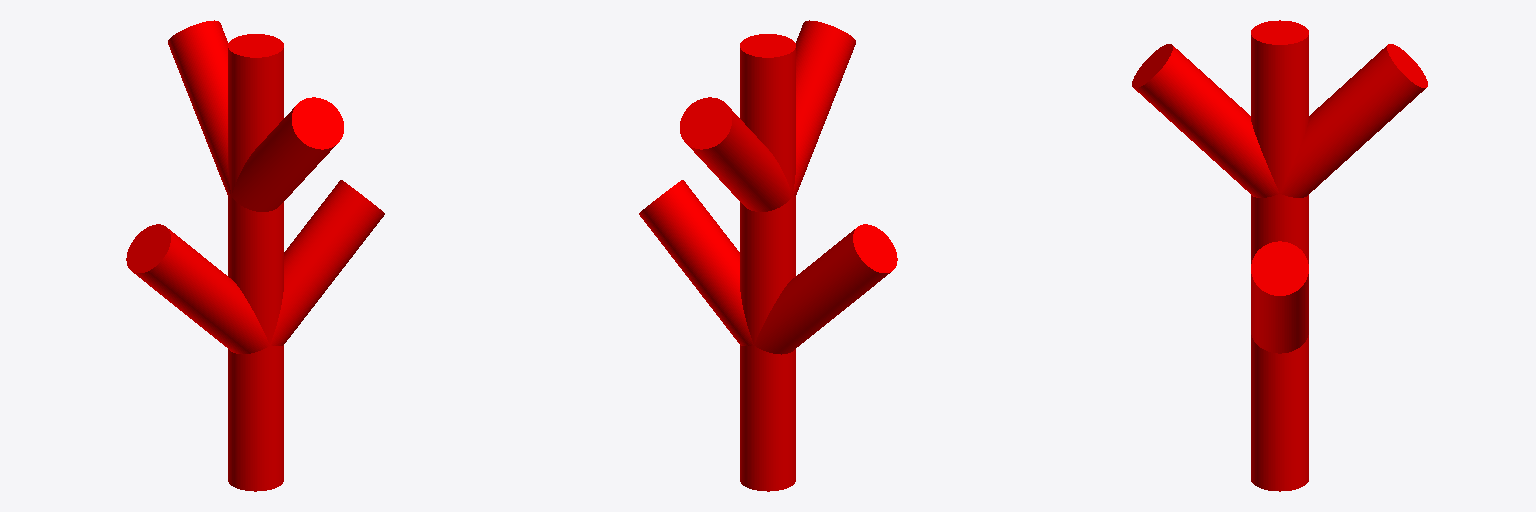
robot.urdf — tree.urdf:
<?xml version="1.0" ?>
<robot name="tree.urdf">
  <link name="baseLink">
    <inertial>
      <origin rpy="0 0 0" xyz="0 0 0"/>
       <mass value=".1"/>
       <inertia ixx="1" ixy="0" ixz="0" iyy="1" iyz="0" izz="1"/>
    </inertial>
    <visual>
      <origin rpy="0 0 0" xyz="0 0 0"/>
      <geometry>
        <mesh filename="16.stl" scale="1 1 1" />
      </geometry>
      <material name="red">
        <color rgba="1 0 0 1"/>
      </material>
    </visual>
    <collision>
      <origin rpy="0 0 0" xyz="0 0 0"/>
      <geometry>
        <mesh filename="16_convex.obj" scale="1 1 1" />
      </geometry>
    </collision>
  </link>
</robot>

--- Render facts (derived) ---
Views: 3 orthographic renders of the robot side by side, from view 1: azimuth 30°, elevation 25°; view 2: azimuth 150°, elevation 25°; view 3: azimuth 270°, elevation 25°.
Robot: tree.urdf — 1 links, 0 joints (none); root link baseLink; default pose: every joint at zero.
Visible links, largest first — view 1: baseLink; view 2: baseLink; view 3: baseLink.
Boxes of the visible links, <box> form: baseLink: <box>126,20,384,491</box>; baseLink: <box>639,20,897,491</box>; baseLink: <box>1132,20,1427,491</box>.
Bounding box of the posed robot: 0.254 × 0.254 × 0.4227 m (x, y, z).
1 mesh visuals loaded from 1 distinct referenced files (1 binary STL).